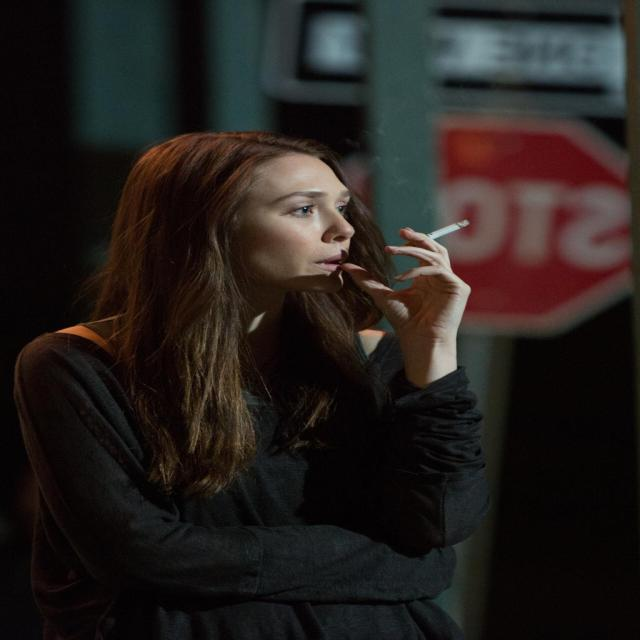smoking: (358, 180, 538, 271)
